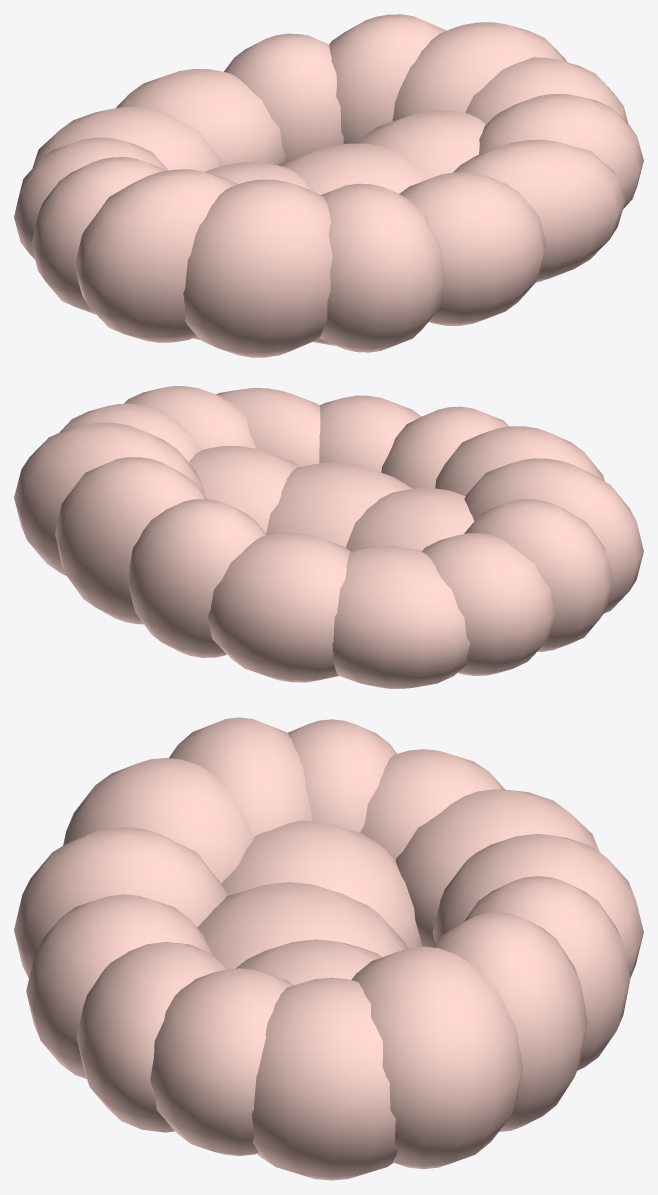
Rendered from Cloud.glb.
3 views of the same model, one above another, from view 1: azimuth 30°, elevation 25°; view 2: azimuth 150°, elevation 25°; view 3: azimuth 270°, elevation 25° (orthographic). The views are drawn at different scales.
Parts seen in each view (by area): view 1: Cloud; view 2: Cloud; view 3: Cloud.
Part boxes in pixels (<box>): Cloud: <box>14,14,643,357</box>; Cloud: <box>14,386,643,688</box>; Cloud: <box>14,717,643,1180</box>.
Bounding box in the file's own units: 4.35 × 1.58 × 3.33.
